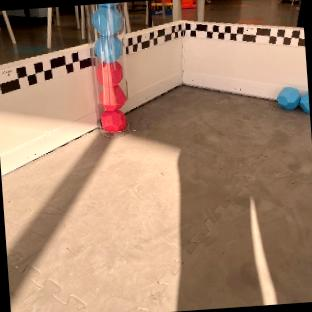V5_BLUE: (92, 3, 122, 34), (277, 87, 309, 112), (93, 34, 122, 61)
V5_RED: (95, 60, 126, 132)
